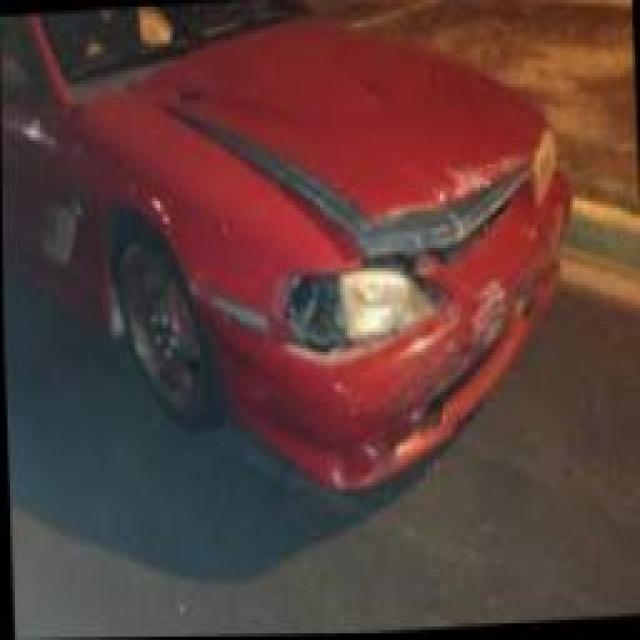rapairable: (447, 282, 554, 342), (418, 148, 514, 197)
replaceable: (292, 260, 434, 325)
